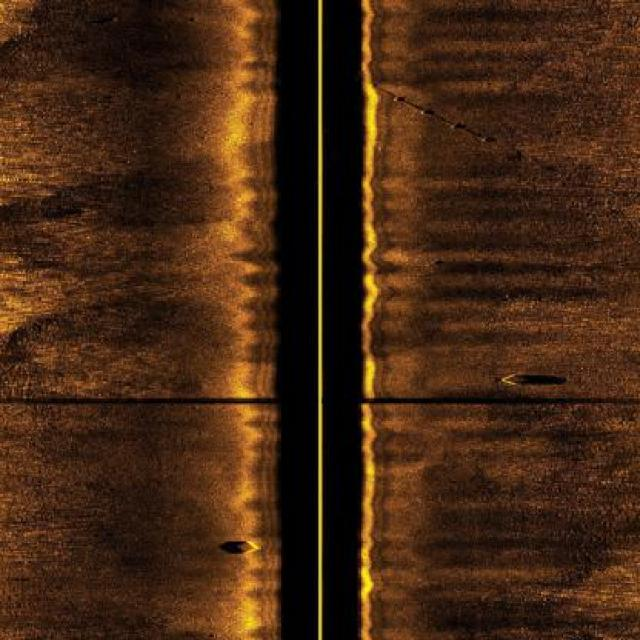other: (374, 82, 538, 169), (499, 370, 561, 390), (218, 535, 262, 556)
